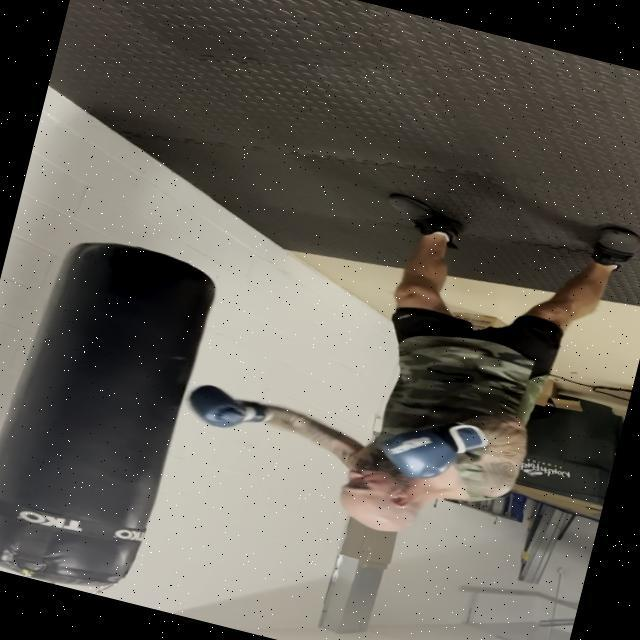bag: (0, 228, 223, 604)
jab: (145, 303, 566, 584)
